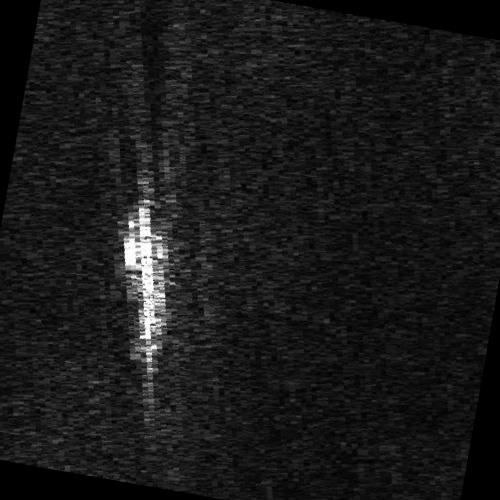ship: (123, 200, 172, 380)
